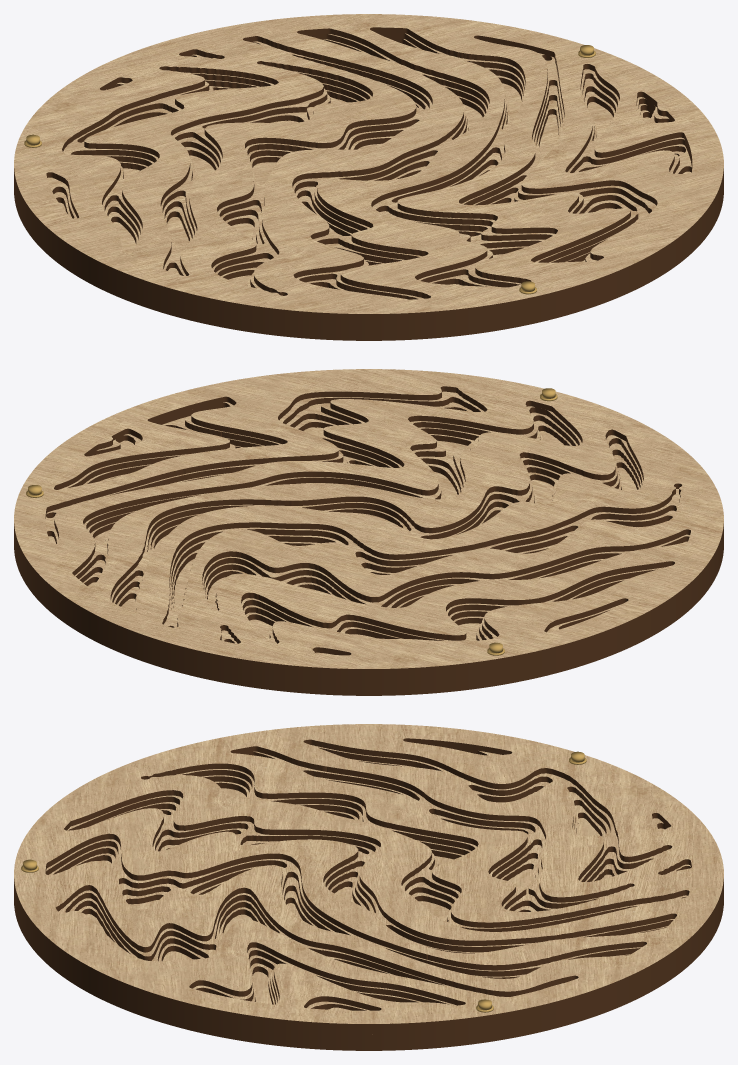
Rendered from morphogen.glb.
3 views of the same model, one above another, from view 1: azimuth 30°, elevation 25°; view 2: azimuth 150°, elevation 25°; view 3: azimuth 270°, elevation 25° (orthographic).
Visible parts, largest first — view 1: body0, body1, body2, body3, body4; view 2: body0, body1, body2, body3, body4; view 3: body0, body1, body2, body3, body4.
Part boxes in pixels (<box>): body0: <box>14,14,723,319</box>; body1: <box>14,32,723,324</box>; body2: <box>14,38,723,330</box>; body3: <box>14,75,723,335</box>; body4: <box>14,83,723,340</box>; body0: <box>14,369,723,674</box>; body1: <box>14,391,723,679</box>; body2: <box>14,402,723,685</box>; body3: <box>14,419,723,690</box>; body4: <box>14,427,723,695</box>; body0: <box>14,724,723,1029</box>; body1: <box>14,745,723,1034</box>; body2: <box>14,758,723,1040</box>; body3: <box>14,781,723,1045</box>; body4: <box>14,788,723,1050</box>.
Size of the model in its own units: 0.36 by 0.0186 by 0.36.
Materials: 4 (1 with a texture image).
